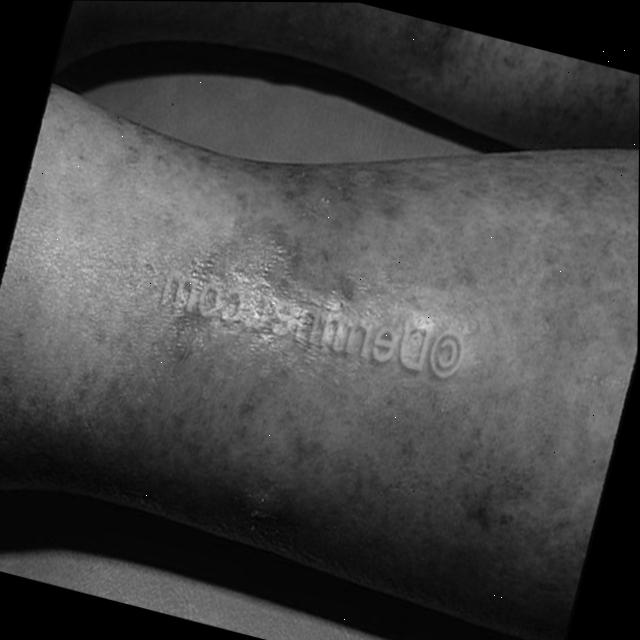Eczema: (0, 38, 639, 587)
